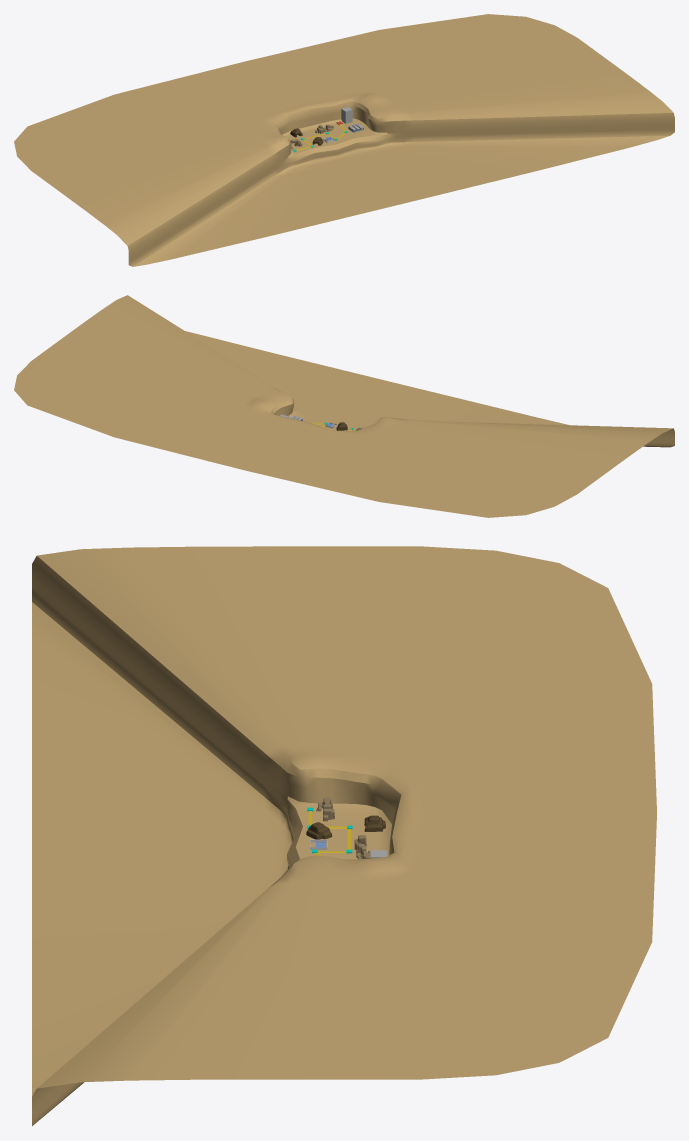
File: STS.fbx
3 renders of one model, top to bottom at view 1: azimuth 30°, elevation 25°; view 2: azimuth 150°, elevation 25°; view 3: azimuth 270°, elevation 25°, orthographic. The views are drawn at different scales.
Parts seen in each view (by area): view 1: polySurface248; view 2: polySurface248; view 3: polySurface248.
Part boxes in pixels (x1=…): polySurface248: x1=14, y1=14, x2=674, y2=266; polySurface248: x1=14, y1=295, x2=674, y2=517; polySurface248: x1=32, y1=546, x2=656, y2=1125.
Size of the model in its own units: 15384 by 837 by 7626.
